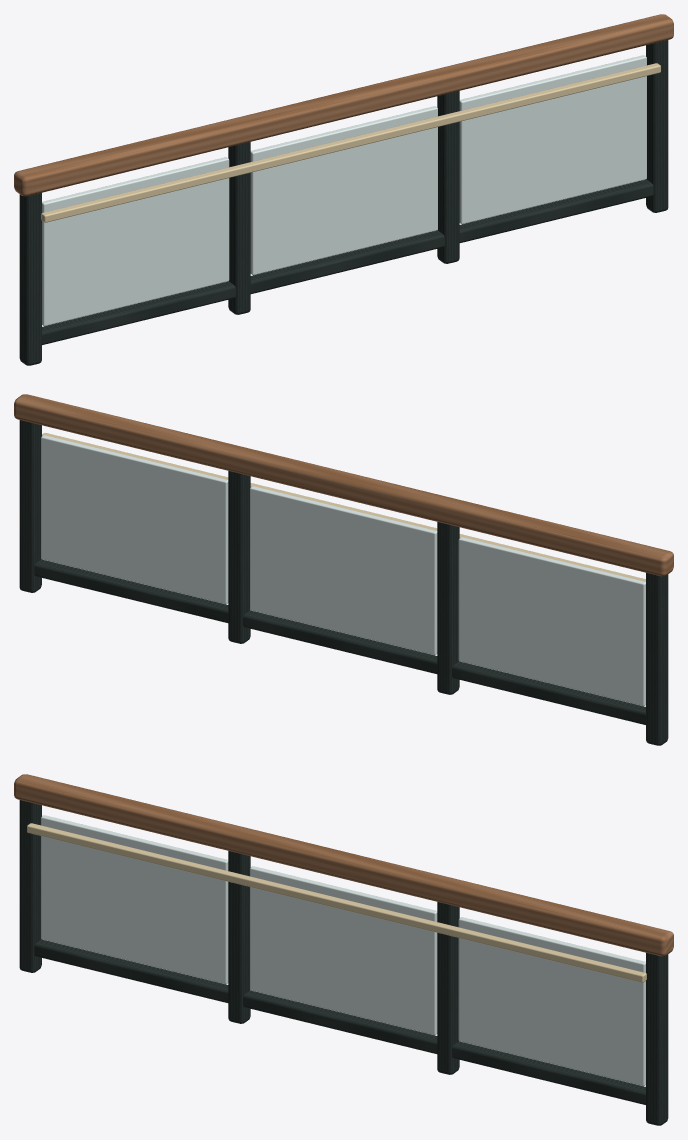
File: railing.glb
The picture shows the model from 3 angles, top to bottom: view 1: azimuth 30°, elevation 25°; view 2: azimuth 150°, elevation 25°; view 3: azimuth 330°, elevation 25°; orthographic projection.
Visible parts, largest first — view 1: Railing_Glass_-1.28, Railing_Glass_0, Railing_Glass_1.28, Railing_Top, Railing_Bottom, Railing_Accent, Railing_Post_-1.92, Railing_Post_1.92, Railing_Post_0.64, Railing_Post_-0.64; view 2: Railing_Glass_1.28, Railing_Glass_0, Railing_Glass_-1.28, Railing_Top, Railing_Bottom, Railing_Post_-1.92, Railing_Post_1.92, Railing_Post_0.64, Railing_Post_-0.64, Railing_Accent; view 3: Railing_Glass_1.28, Railing_Glass_-1.28, Railing_Glass_0, Railing_Top, Railing_Bottom, Railing_Accent, Railing_Post_1.92, Railing_Post_-1.92, Railing_Post_-0.64, Railing_Post_0.64.
Part boxes in pixels (<box>): Railing_Glass_-1.28: <box>42,157,229,326</box>; Railing_Glass_0: <box>250,106,437,275</box>; Railing_Glass_1.28: <box>459,55,646,224</box>; Railing_Top: <box>14,14,673,196</box>; Railing_Bottom: <box>42,179,653,344</box>; Railing_Accent: <box>41,63,660,222</box>; Railing_Post_-1.92: <box>19,193,41,365</box>; Railing_Post_1.92: <box>646,40,668,212</box>; Railing_Post_0.64: <box>437,91,459,263</box>; Railing_Post_-0.64: <box>228,142,250,314</box>; Railing_Glass_1.28: <box>41,435,228,604</box>; Railing_Glass_0: <box>250,486,437,655</box>; Railing_Glass_-1.28: <box>458,537,645,706</box>; Railing_Top: <box>14,394,673,576</box>; Railing_Bottom: <box>34,559,645,724</box>; Railing_Post_-1.92: <box>646,573,668,745</box>; Railing_Post_1.92: <box>19,420,41,592</box>; Railing_Post_0.64: <box>228,471,250,643</box>; Railing_Post_-0.64: <box>437,522,459,694</box>; Railing_Accent: <box>42,433,645,581</box>; Railing_Glass_1.28: <box>458,917,645,1086</box>; Railing_Glass_-1.28: <box>41,815,228,984</box>; Railing_Glass_0: <box>250,866,437,1035</box>; Railing_Top: <box>14,774,673,956</box>; Railing_Bottom: <box>34,939,645,1104</box>; Railing_Accent: <box>27,823,646,982</box>; Railing_Post_1.92: <box>646,953,668,1125</box>; Railing_Post_-1.92: <box>19,800,41,972</box>; Railing_Post_-0.64: <box>228,851,250,1023</box>; Railing_Post_0.64: <box>437,902,459,1074</box>.
Size of the model in its own units: 4 by 1.12 by 0.1575.
4 materials, 2 textured.
